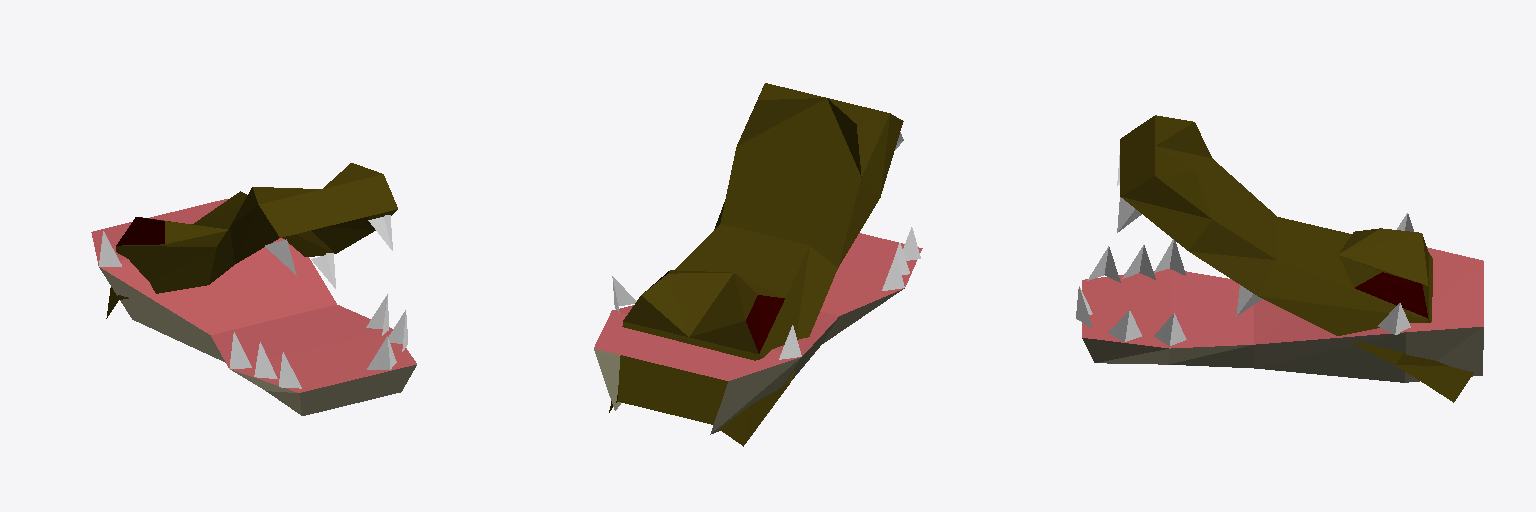
The picture shows the model from 3 angles: view 1: azimuth 30°, elevation 25°; view 2: azimuth 150°, elevation 25°; view 3: azimuth 270°, elevation 25°; orthographic projection.
Visible parts, largest first — view 1: 4, object 1, 2, 5, 3; view 2: object 1, 4, 2, 5, 3; view 3: object 1, 4, 2, 5, 3.
Part boxes in pixels (bbox=[...]): 4: bbox=[91, 199, 416, 392]; object 1: bbox=[106, 163, 397, 318]; 2: bbox=[99, 267, 416, 415]; 5: bbox=[99, 215, 407, 388]; 3: bbox=[116, 217, 164, 245]; object 1: bbox=[609, 83, 903, 446]; 4: bbox=[594, 233, 922, 380]; 2: bbox=[594, 288, 904, 434]; 5: bbox=[612, 132, 920, 359]; 3: bbox=[645, 271, 784, 353]; object 1: bbox=[1120, 115, 1473, 402]; 4: bbox=[1082, 247, 1483, 348]; 2: bbox=[1082, 327, 1483, 382]; 5: bbox=[1076, 155, 1413, 346]; 3: bbox=[1355, 272, 1428, 318].
Size of the model in its own units: 8.69 by 9.69 by 16.06.
Materials: 1 (1 with a texture image).